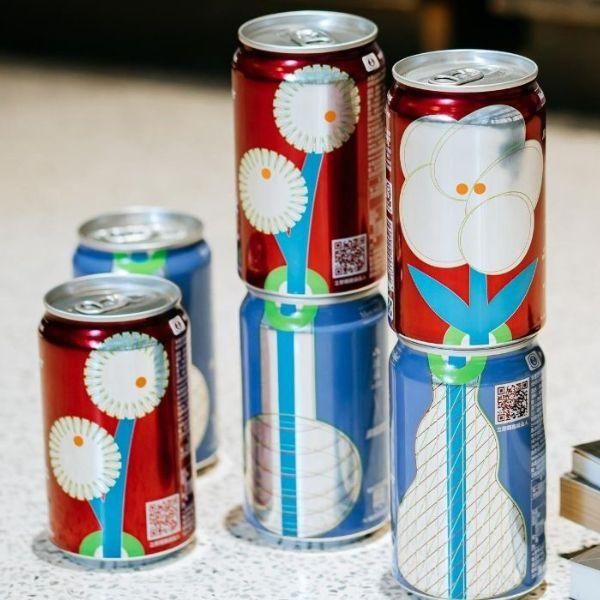metal: (223, 10, 550, 599), (44, 206, 221, 567)
